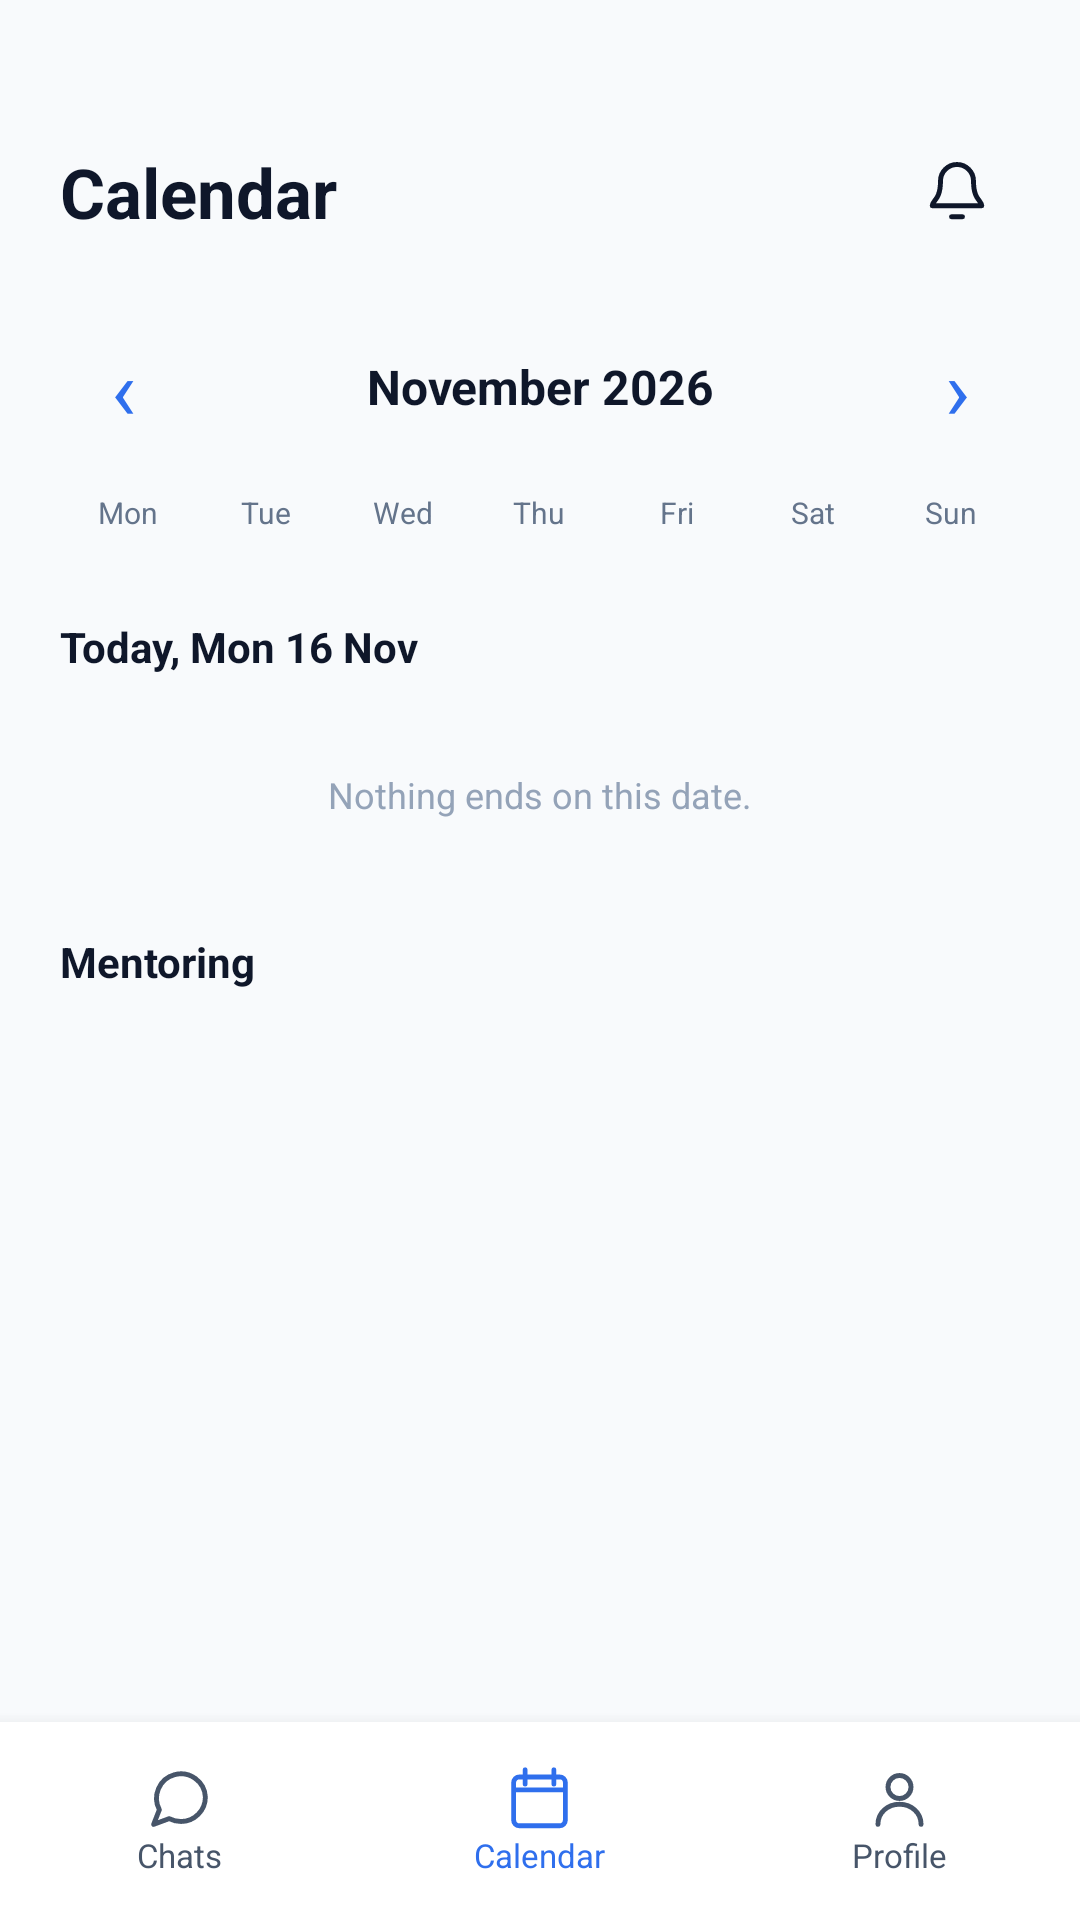

Named icons in this screenshot (1080px×1920px) and their centers, [x,y]:
notification: [957,191]
